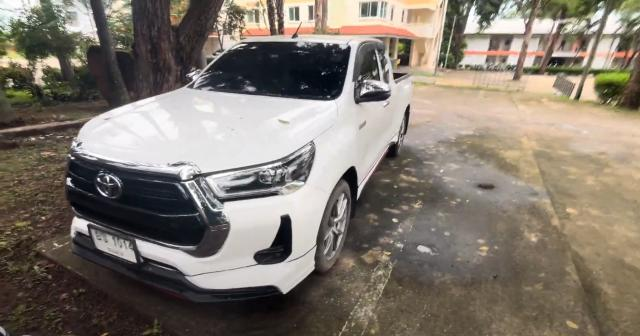pickup-truck: (63, 34, 416, 301)
